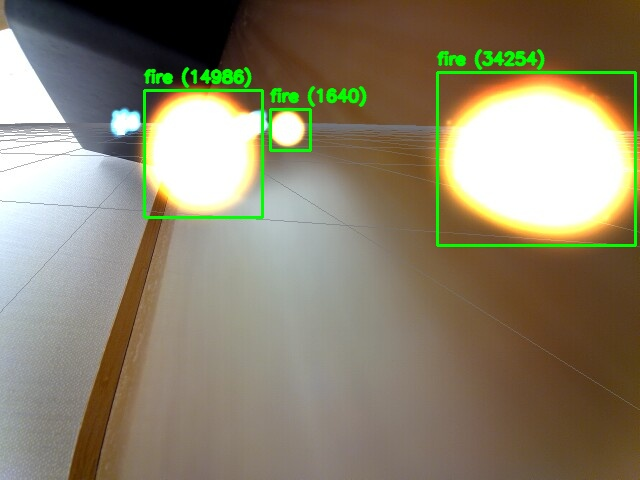fire: (437, 72, 635, 245), (144, 90, 262, 217), (270, 109, 310, 150)
